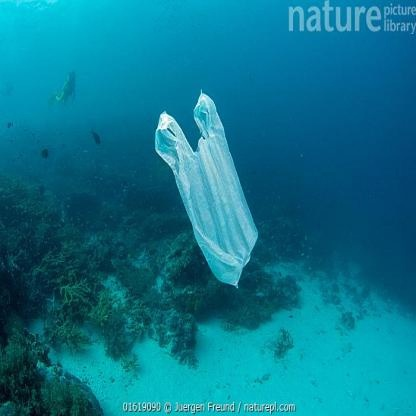pbag: (152, 88, 258, 289)
